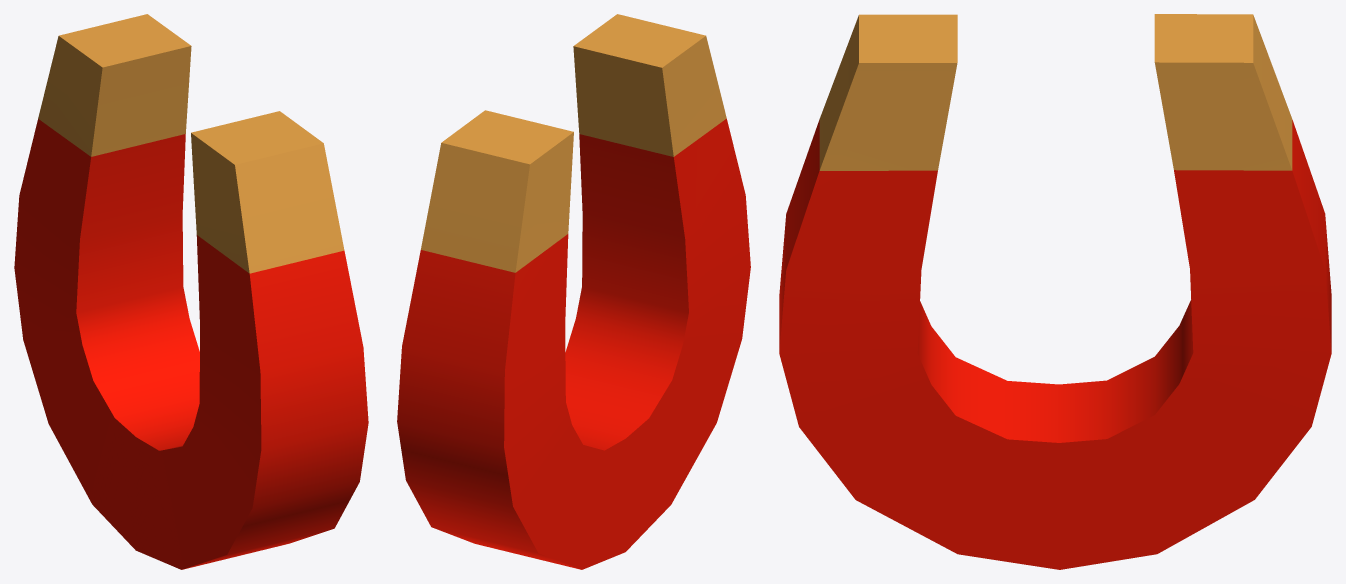
File: Magnet.FBX
3 renders of one model, left to right at view 1: azimuth 30°, elevation 25°; view 2: azimuth 150°, elevation 25°; view 3: azimuth 270°, elevation 25°, orthographic. The views are drawn at different scales.
Visible parts, largest first — view 1: pCube1; view 2: pCube1; view 3: pCube1.
Boxes of the visible parts, bbox=[...] form: pCube1: bbox=[14, 14, 368, 569]; pCube1: bbox=[397, 14, 750, 569]; pCube1: bbox=[779, 14, 1331, 569].
Bounding box in the file's own units: 1.74 × 6.98 × 6.96.
1 material, 1 textured.
